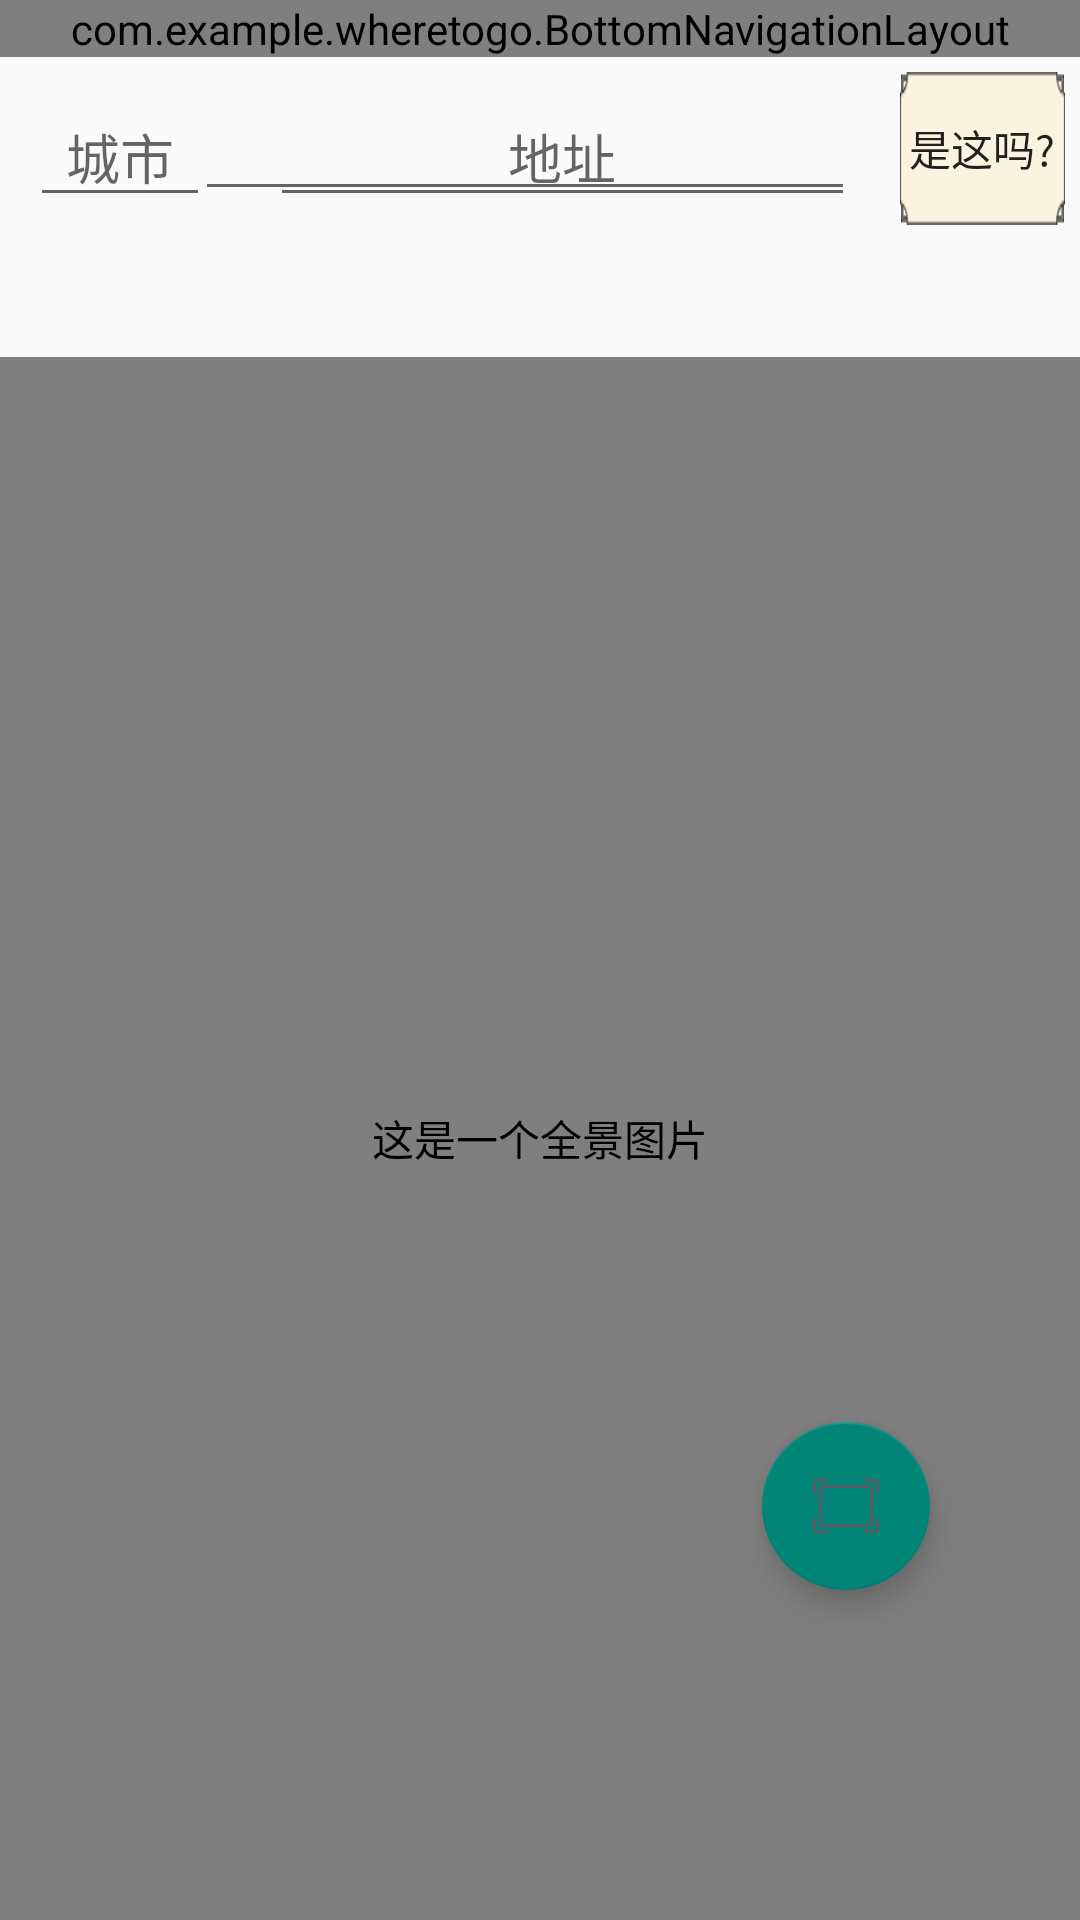

Screen size 1080 x 1920. Icon name, then its center in pixels as [x,y]:
fullscreen: [846,1506]
